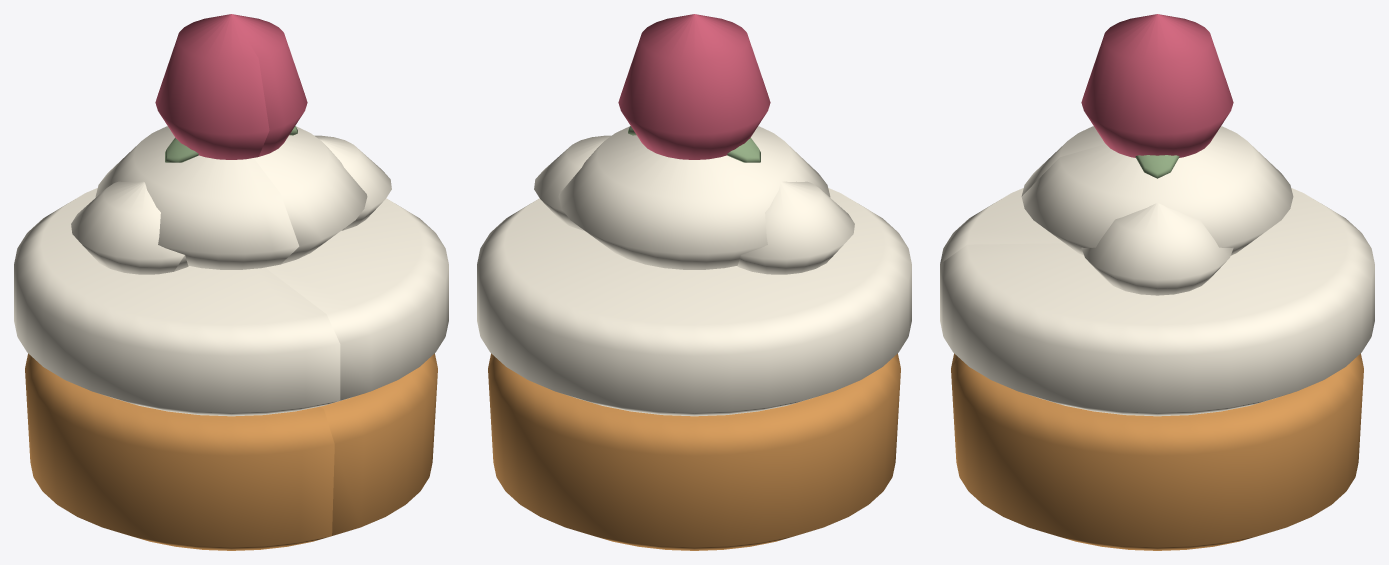
The model's file is interactive-cake.glb.
3 views of the same model, side by side, from view 1: azimuth 30°, elevation 25°; view 2: azimuth 150°, elevation 25°; view 3: azimuth 270°, elevation 25° (orthographic).
Visible parts, largest first — view 1: InteractiveStrawberryCakeFrostingLayer, InteractiveStrawberryCakeCrumb, InteractiveStrawberryCakeTopCream, InteractiveStrawberryCakeStrawberry, InteractiveStrawberryCakeCreamDollop1, InteractiveStrawberryCakeCreamDollop2, InteractiveStrawberryCakeLeaf1; view 2: InteractiveStrawberryCakeFrostingLayer, InteractiveStrawberryCakeCrumb, InteractiveStrawberryCakeTopCream, InteractiveStrawberryCakeStrawberry, InteractiveStrawberryCakeCreamDollop1, InteractiveStrawberryCakeCreamDollop2, InteractiveStrawberryCakeLeaf1; view 3: InteractiveStrawberryCakeFrostingLayer, InteractiveStrawberryCakeCrumb, InteractiveStrawberryCakeTopCream, InteractiveStrawberryCakeStrawberry, InteractiveStrawberryCakeCreamDollop2, InteractiveStrawberryCakeLeaf2.
Part boxes in pixels (left/top/right/bottom): InteractiveStrawberryCakeFrostingLayer: left=14, top=188, right=448, bottom=416; InteractiveStrawberryCakeCrumb: left=25, top=353, right=437, bottom=550; InteractiveStrawberryCakeTopCream: left=95, top=126, right=367, bottom=269; InteractiveStrawberryCakeStrawberry: left=155, top=14, right=307, bottom=159; InteractiveStrawberryCakeCreamDollop1: left=71, top=181, right=188, bottom=274; InteractiveStrawberryCakeCreamDollop2: left=314, top=135, right=391, bottom=230; InteractiveStrawberryCakeLeaf1: left=165, top=137, right=198, bottom=162; InteractiveStrawberryCakeFrostingLayer: left=477, top=188, right=911, bottom=416; InteractiveStrawberryCakeCrumb: left=488, top=353, right=900, bottom=550; InteractiveStrawberryCakeTopCream: left=558, top=126, right=830, bottom=269; InteractiveStrawberryCakeStrawberry: left=618, top=14, right=770, bottom=159; InteractiveStrawberryCakeCreamDollop1: left=737, top=181, right=854, bottom=274; InteractiveStrawberryCakeCreamDollop2: left=534, top=135, right=611, bottom=230; InteractiveStrawberryCakeLeaf1: left=727, top=137, right=760, bottom=162; InteractiveStrawberryCakeFrostingLayer: left=940, top=188, right=1374, bottom=416; InteractiveStrawberryCakeCrumb: left=951, top=353, right=1363, bottom=550; InteractiveStrawberryCakeTopCream: left=1021, top=126, right=1293, bottom=255; InteractiveStrawberryCakeStrawberry: left=1081, top=14, right=1233, bottom=157; InteractiveStrawberryCakeCreamDollop2: left=1081, top=203, right=1233, bottom=295; InteractiveStrawberryCakeLeaf2: left=1135, top=155, right=1179, bottom=178.
Size of the model in its own units: 0.496 by 0.589 by 0.496.
